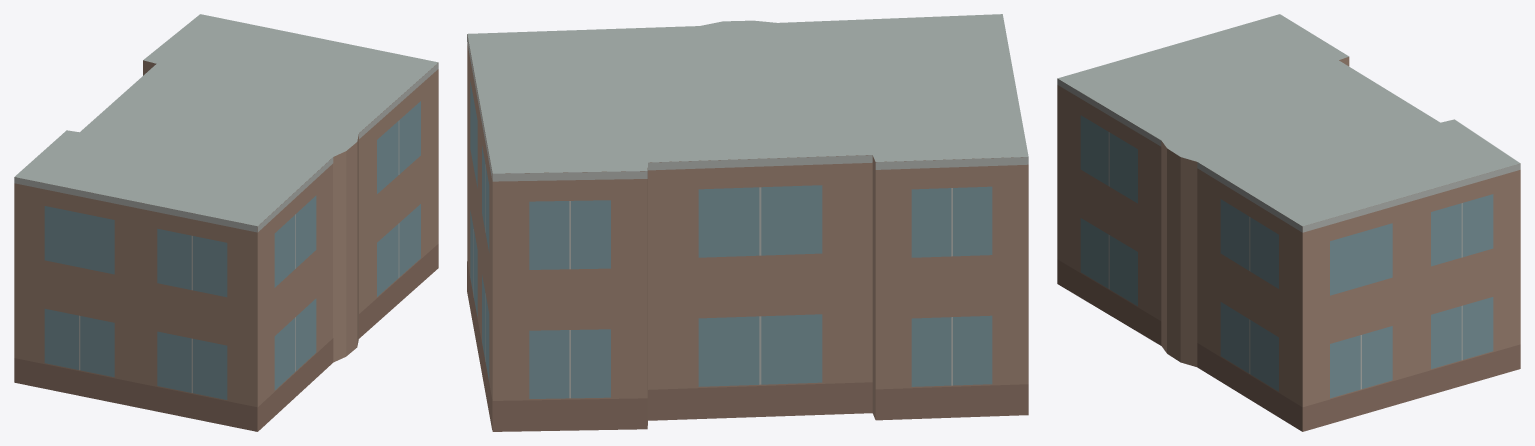
File: survey-upis-32625085.glb
3 renders of one model, left to right at view 1: azimuth 30°, elevation 25°; view 2: azimuth 150°, elevation 25°; view 3: azimuth 270°, elevation 25°, orthographic. The views are drawn at different scales.
Visible parts, largest first — view 1: survey-upis-32625085.tmp; view 2: survey-upis-32625085.tmp; view 3: survey-upis-32625085.tmp.
Part boxes in pixels (box(x1,y1,x2,y2)): survey-upis-32625085.tmp: box(14, 14, 438, 431); survey-upis-32625085.tmp: box(467, 14, 1028, 431); survey-upis-32625085.tmp: box(1057, 14, 1520, 431).
Size of the model in its own units: 17.64 by 7.95 by 16.26.
